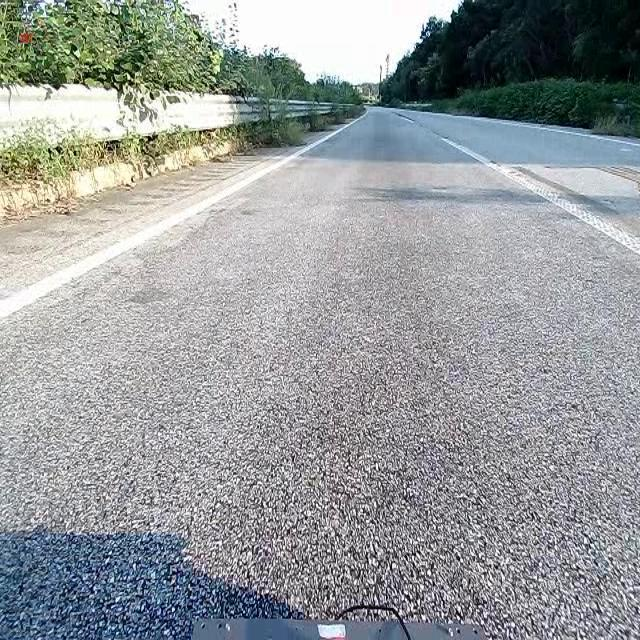Lane: (0, 116, 358, 324), (0, 120, 357, 325), (440, 130, 639, 260), (442, 138, 639, 255)
